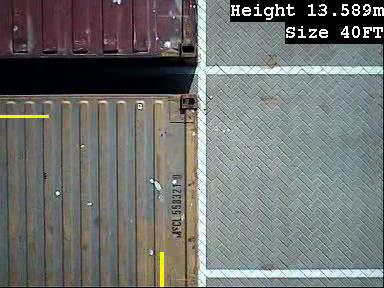groundmarker_2: (198, 226, 234, 288), (199, 66, 235, 127)
